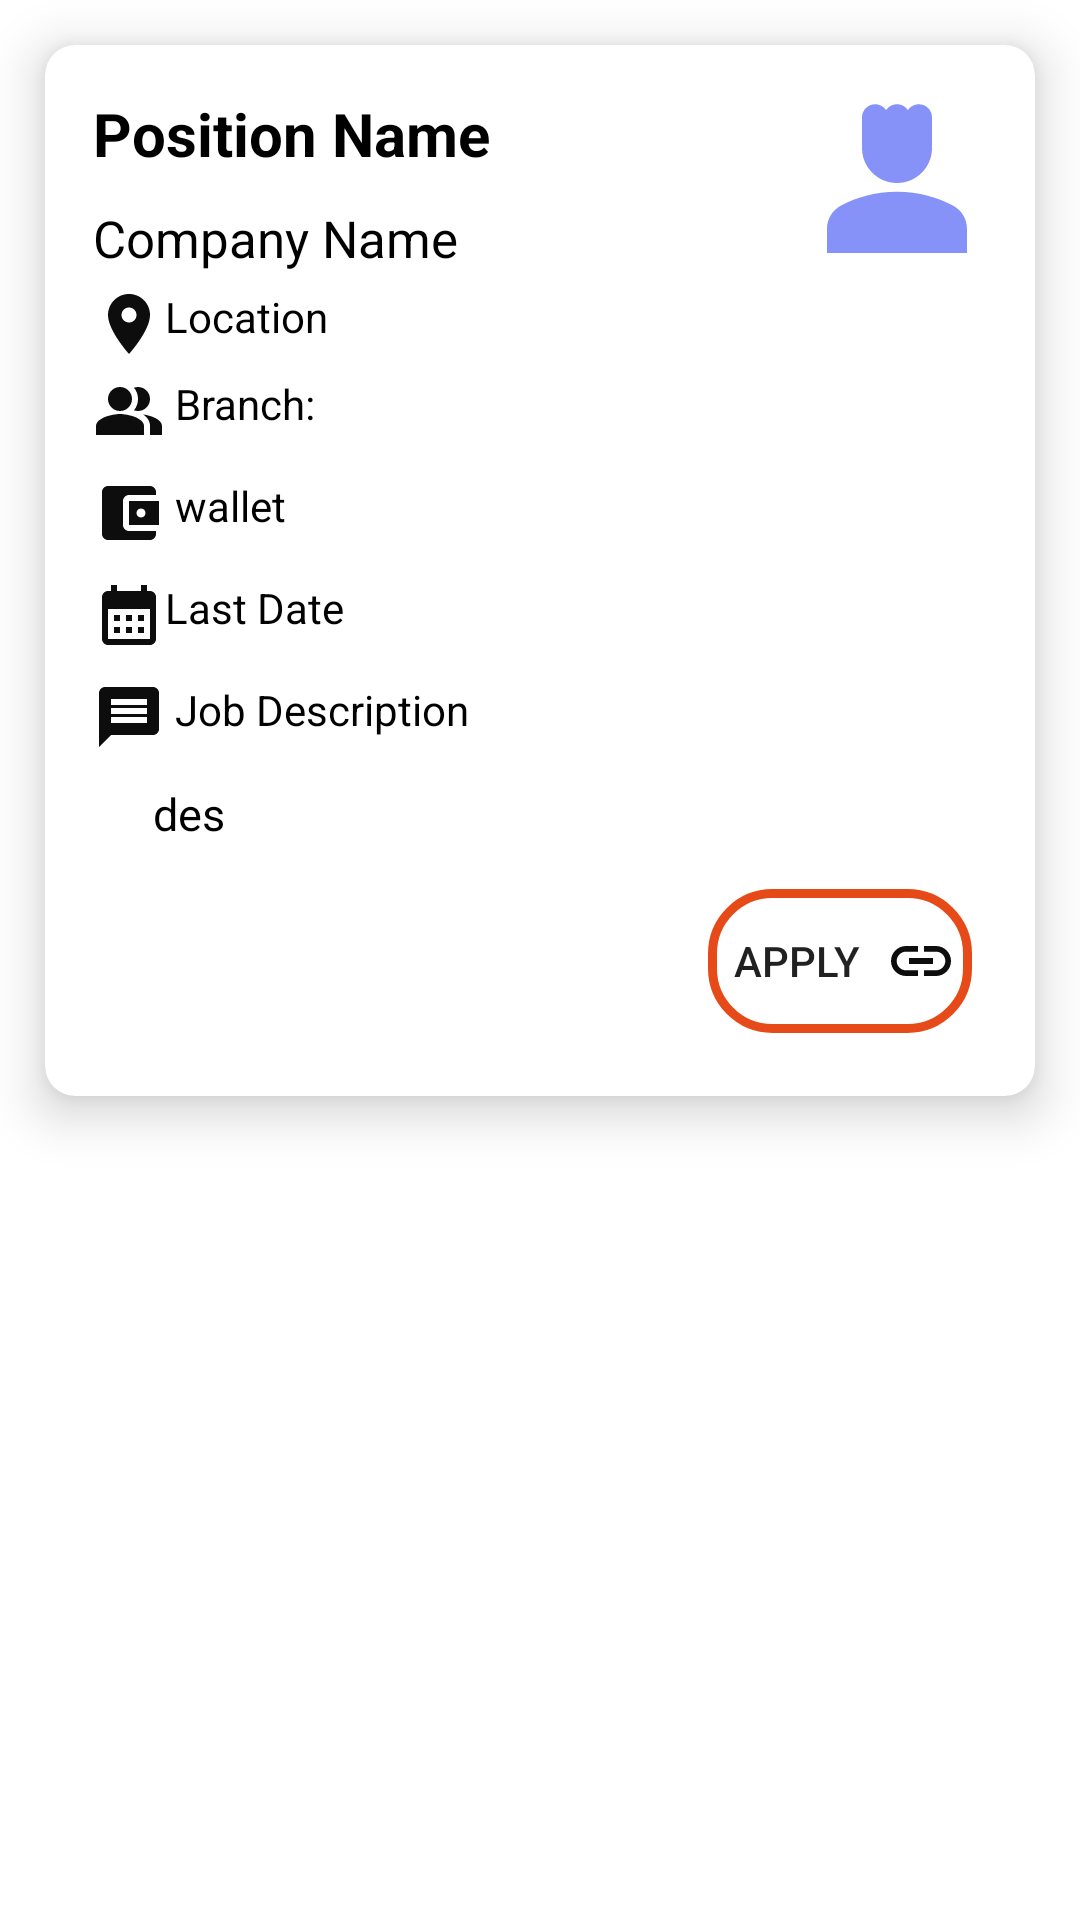

Icons on this 1080*1920 Android screen, each with its box as bbox=[x1, y1, x2, y2]:
person: bbox=[827, 104, 967, 253]
